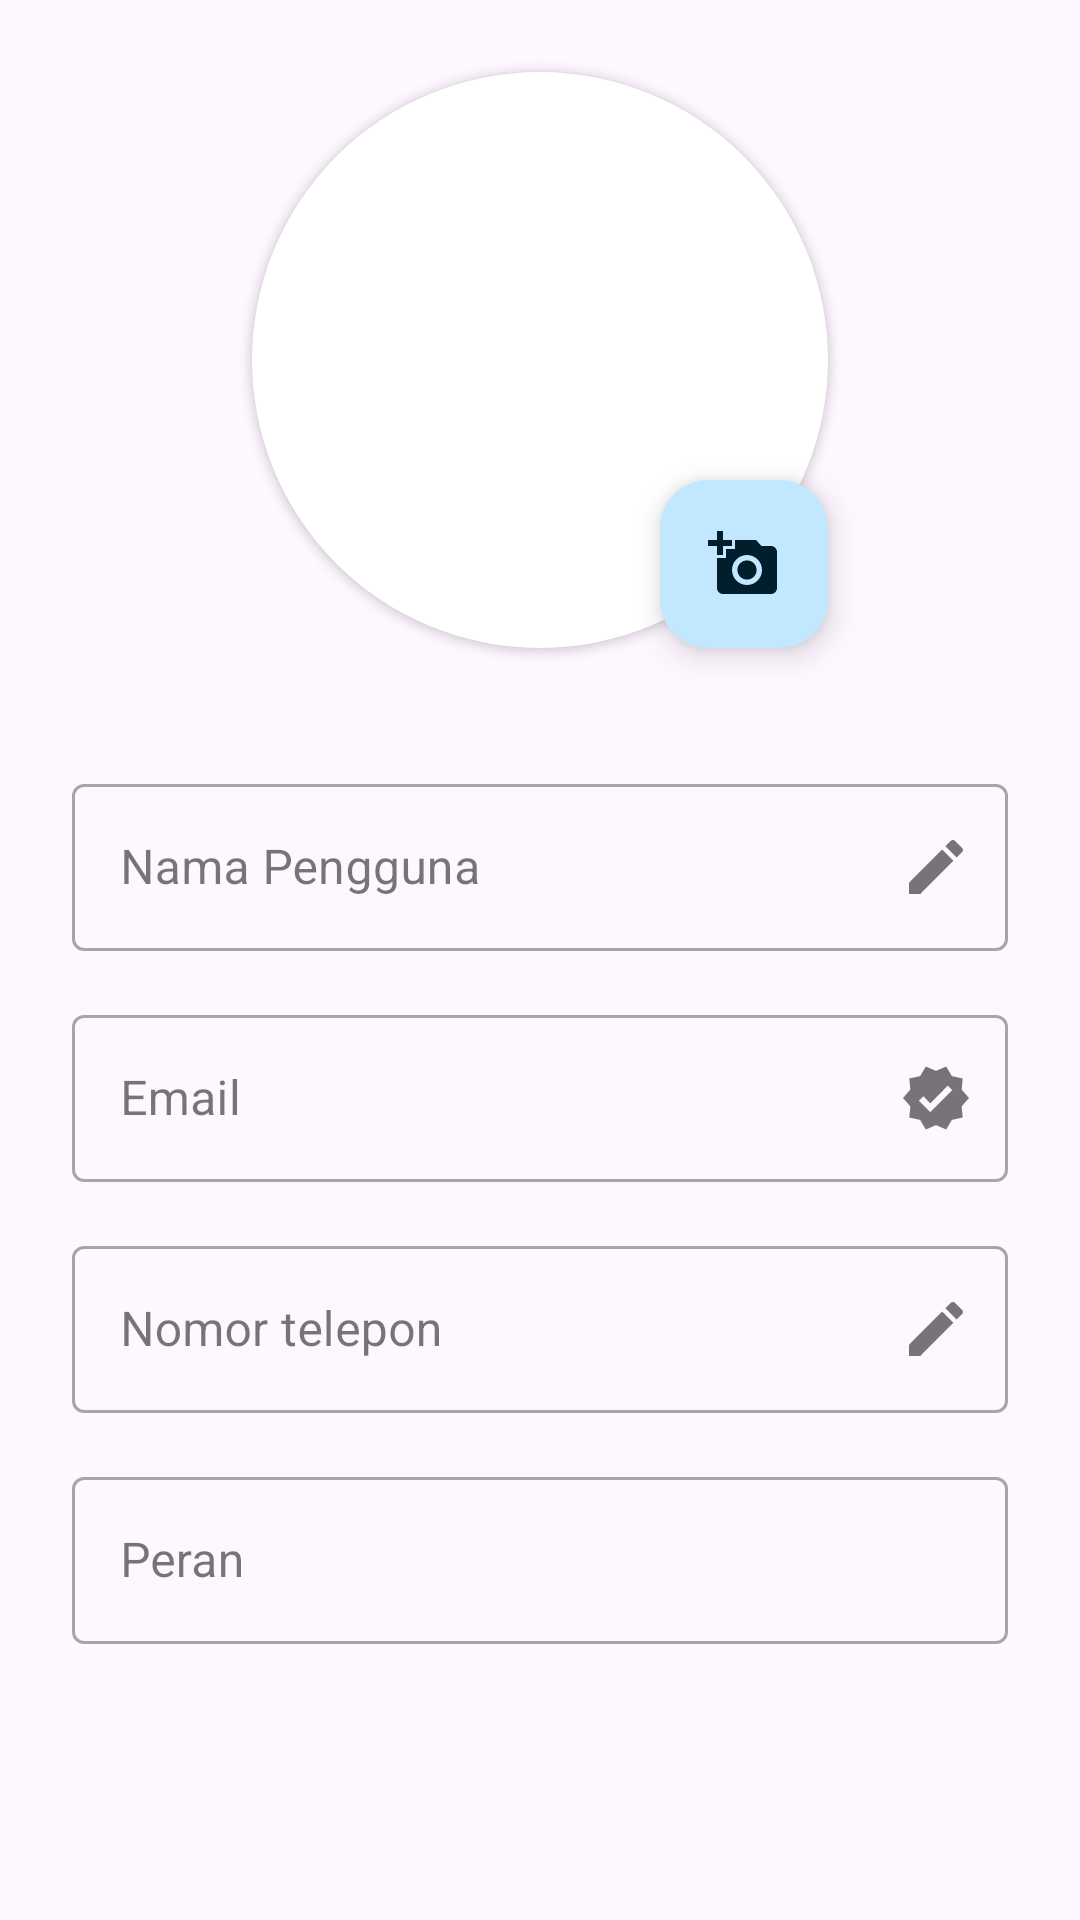

Where icons sit on this 1080 × 1920 app screen, as (x1, y1, x2, y2):
add photo: (660, 480, 828, 648)
